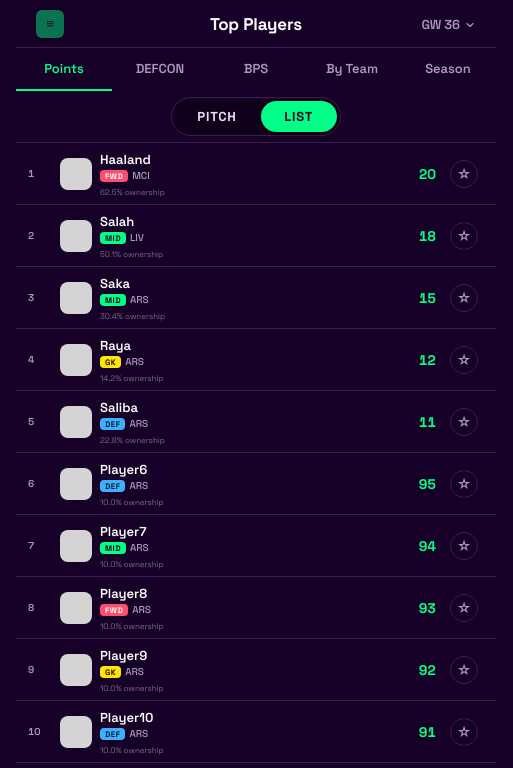
Test: TopPlayersScreen — DEFCON tab › shows DEFCON tab content when DEFCON tab is active
Click the tab "DEFCON": (160, 70) [112, 48, 208, 91]
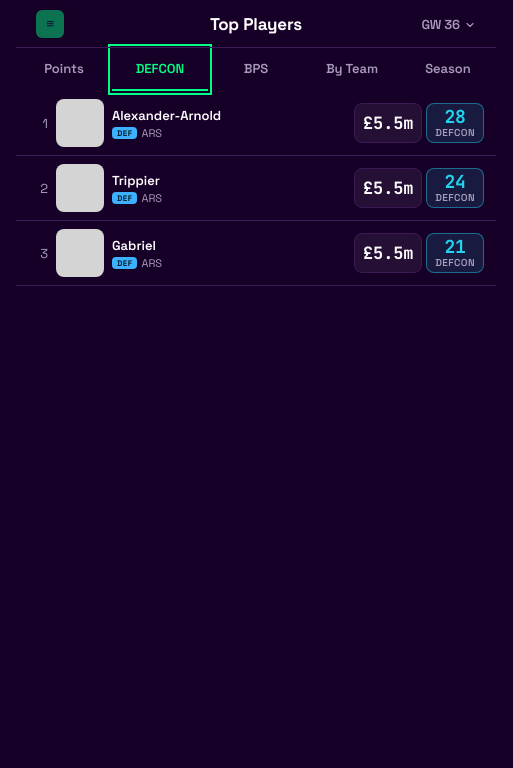
Now the text "Alexander-Arnold" is shown, box [112, 106, 221, 124]
Now the text "Trippier" is shown, box [112, 172, 160, 188]
